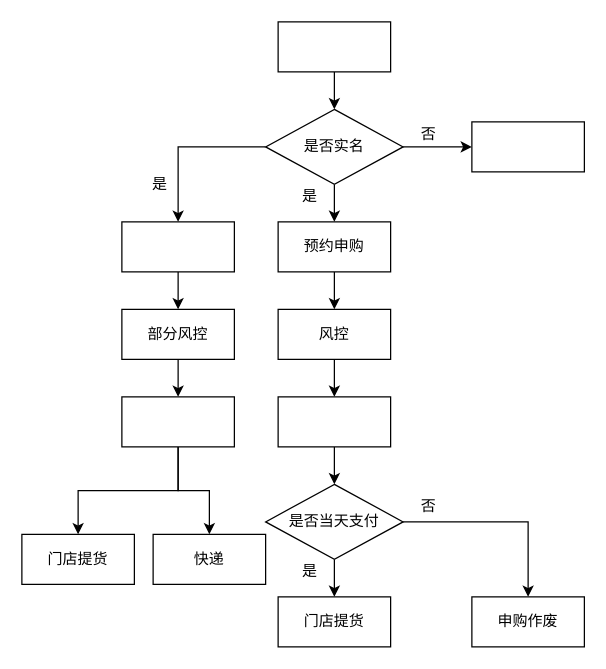
Some shapes in this 606 by 669 pixel diagram are drawn without their labels. The shapes that lost their labels are listed below. From the top down, each one's centre as x and y in pixels, then its label:
At [334,46]: "注册".
At [527,146]: "实名认证".
At [177,246]: "云购".
At [177,421]: "购买".
At [334,421]: "结果公示".
